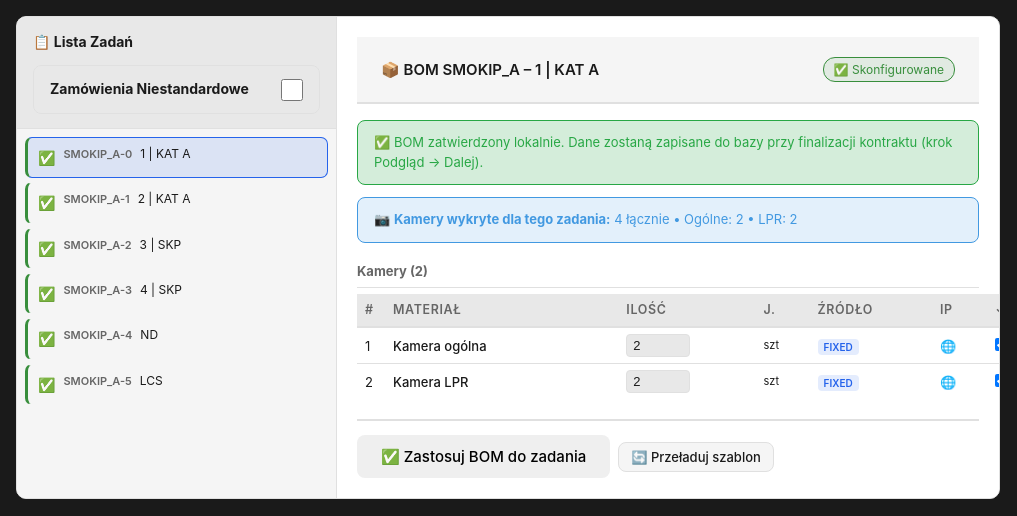
TaskConfigurationStep › propagates an edited crossing BOM through Nastawnia to LCS
Click the text "SMOKIP_A-1": {"x": 97, "y": 200} [64,191,130,209]
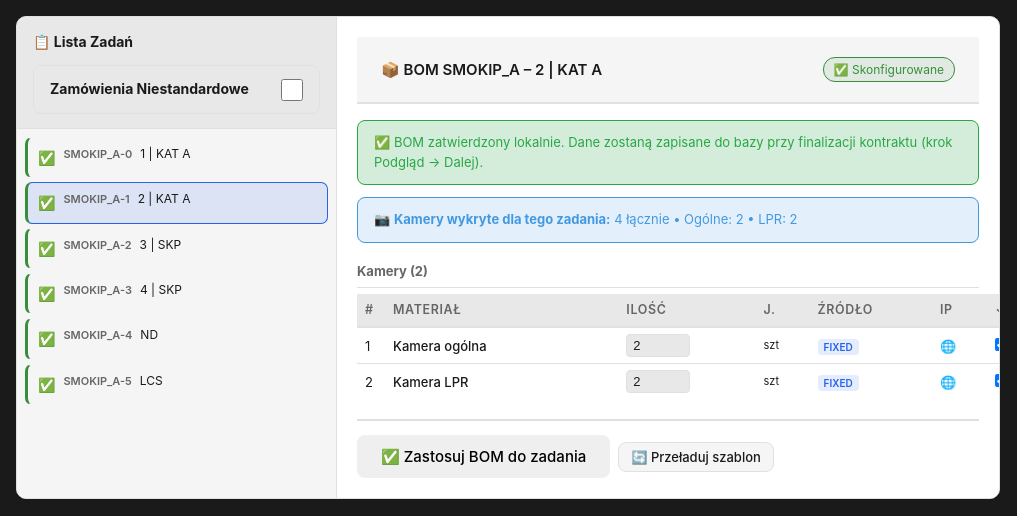
Replace the text in the number field next to "Kamera ogólna" with "3": {"x": 658, "y": 346} [626,334,690,358]
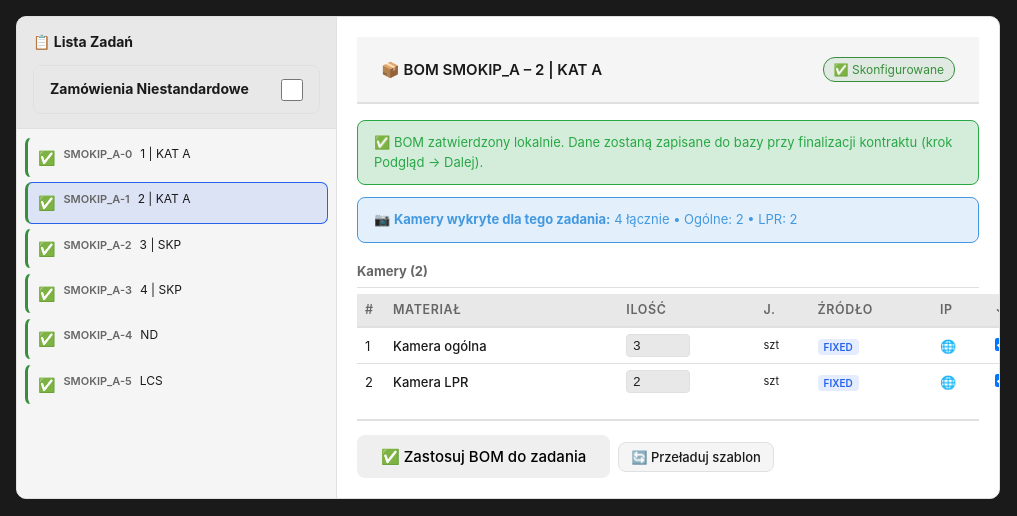
Click the button "✅ Zastosuj BOM do zadania": {"x": 484, "y": 457} [357,436,610,478]
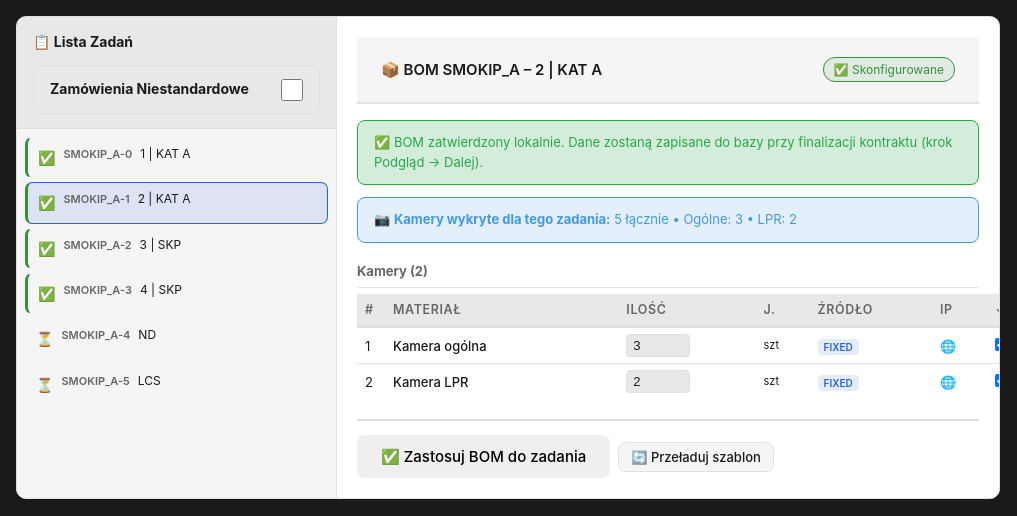
Click the text "SMOKIP_A-5": {"x": 96, "y": 382} [62,373,130,390]
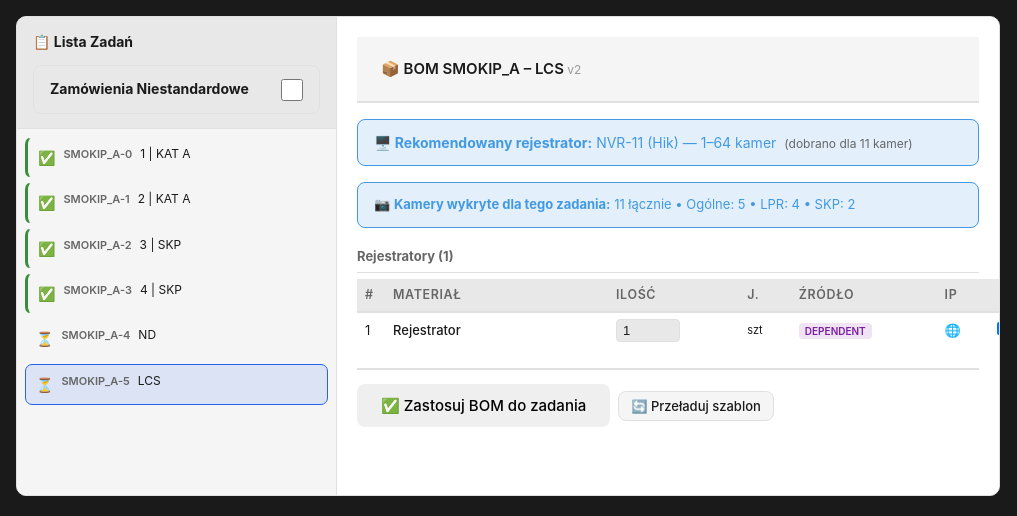
Expected: the text "(dobrano dla 11 kamer)" is shown, [784,136,913,151]
